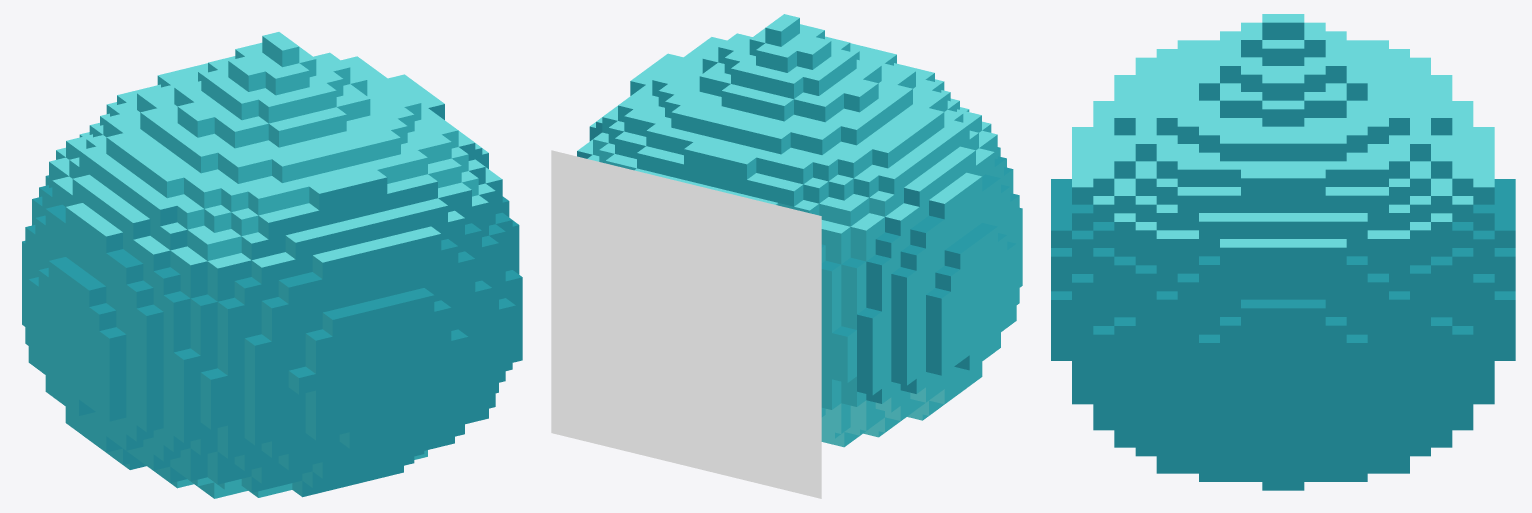
The model's file is slime_hydro_large.glb.
3 renders of one model, left to right at view 1: azimuth 30°, elevation 25°; view 2: azimuth 150°, elevation 25°; view 3: azimuth 270°, elevation 25°, orthographic. The views are drawn at different scales.
Visible parts, largest first — view 1: Shell; view 2: Shell, Face; view 3: Shell.
Part boxes in pixels (bbox=[...]): Shell: bbox=[22, 32, 522, 498]; Shell: bbox=[577, 14, 1022, 447]; Face: bbox=[551, 150, 821, 498]; Shell: bbox=[1051, 14, 1515, 490].
Size of the model in its own units: 1.92 by 1.78 by 1.83.
